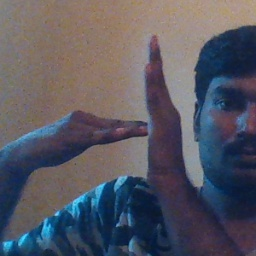Z: (79, 31, 191, 187)
